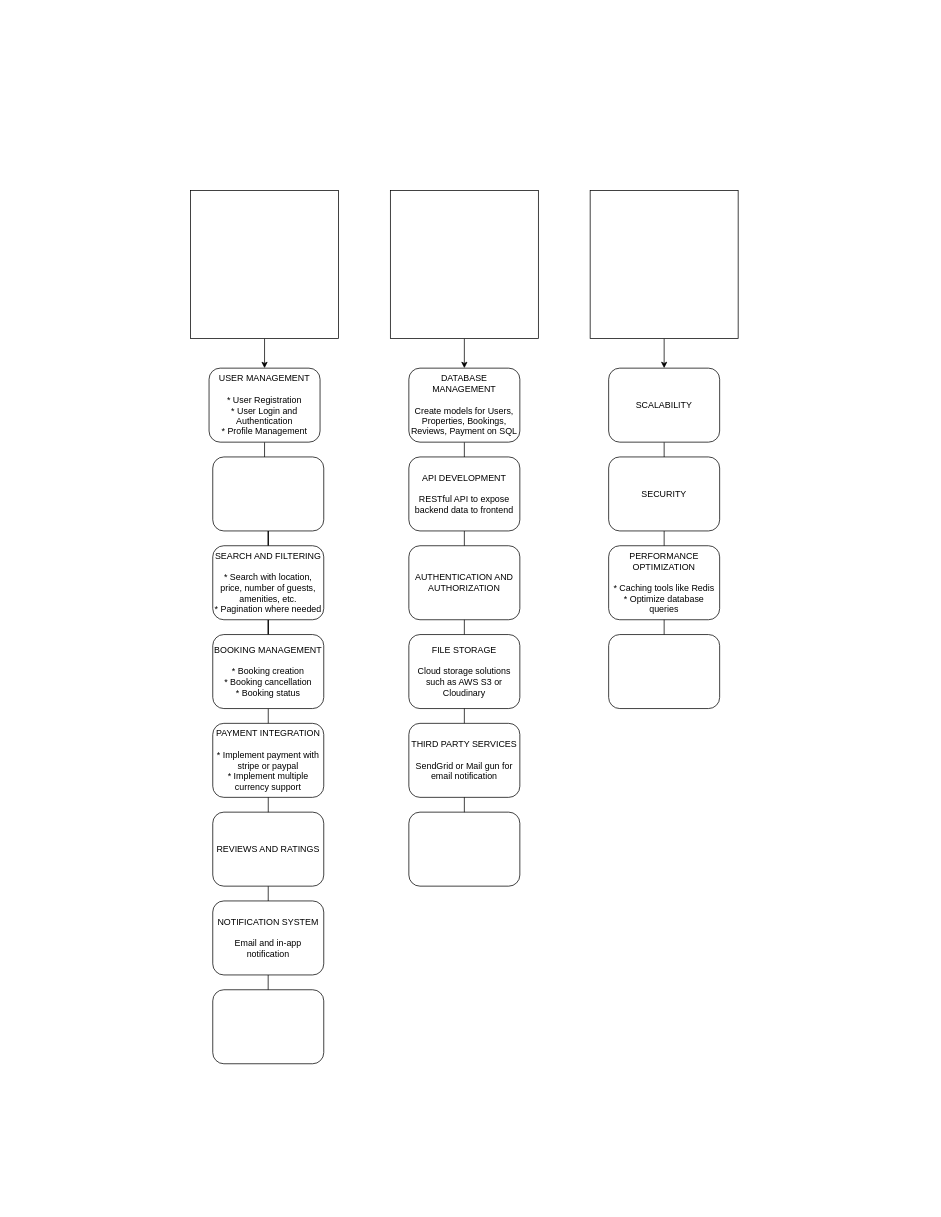
The diagram is 941 pixels wide and 1217 high, and some of its shapes have lost their labels. The shapes that lost their labels are listed below. From the top down, each one's box as (x1, y1, x2, y2) in pixels, then its label:
(190, 190, 339, 339): CORE FUNCTIONALITIES
(390, 190, 538, 339): TECHNICAL REQUIREMENTS
(589, 190, 738, 339): NON-FUNCTIONAL REQUIREMENTS
(212, 456, 324, 531): PROPERTY LISTINGS MANAGEMENT * Add Listings * Edit Listings * Delete Listings
(608, 634, 720, 709): TESTING
(408, 811, 520, 886): ERROR HANDLING AND LOGGING
(212, 989, 324, 1064): ADMIN DASHBOARD Track Users, Listings, Bookings, Payments, etc.
